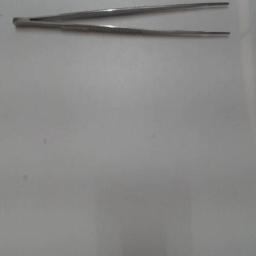DeBakey Dissector: (7, 0, 239, 44)
